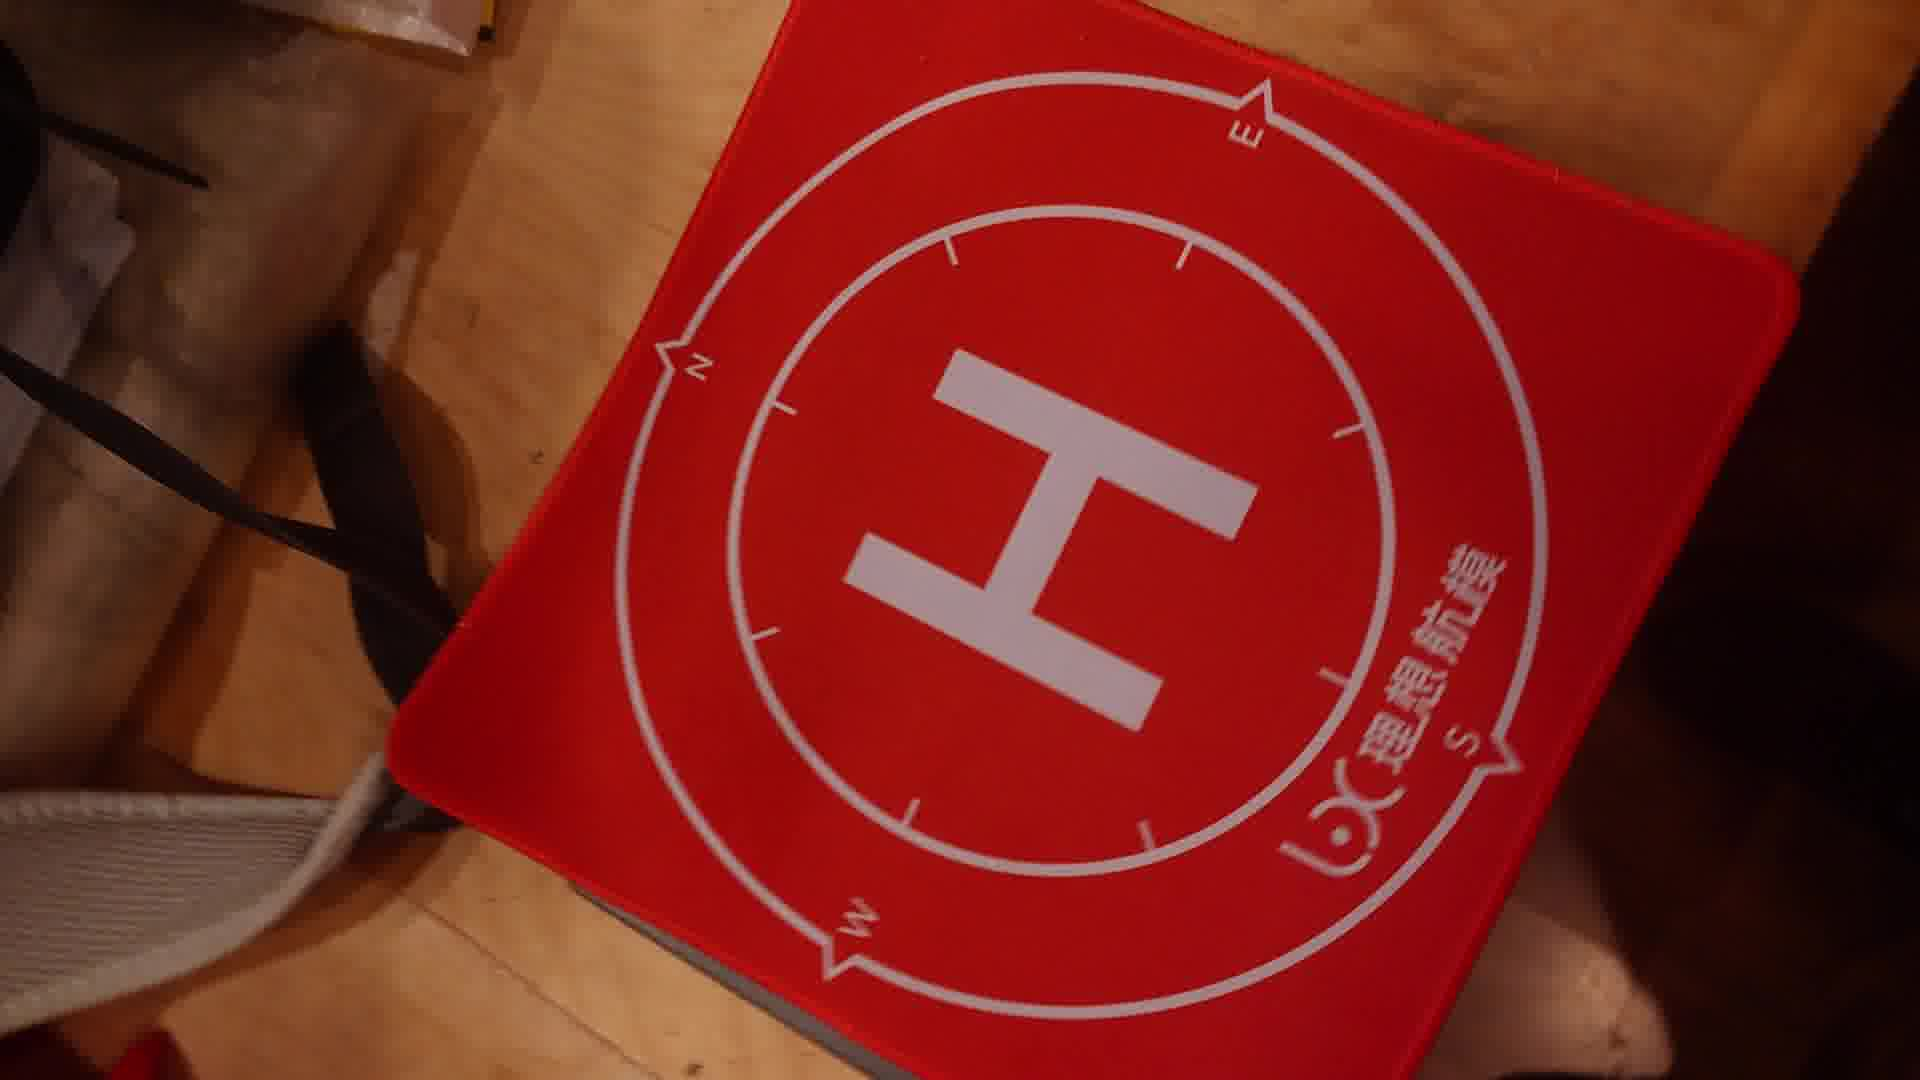H: (841, 345, 1261, 738)
